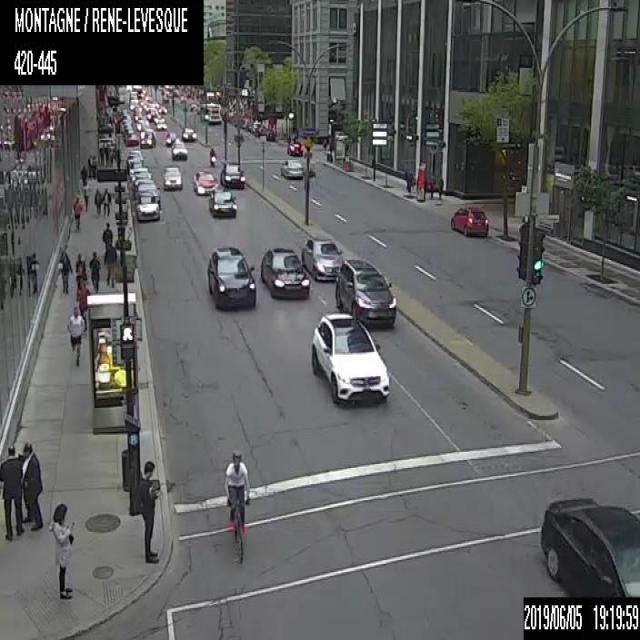bus: (198, 102, 221, 124)
construction: (416, 168, 424, 191)
cyclist: (224, 450, 250, 558)
pedestrian: (135, 458, 161, 562), (48, 503, 75, 597), (0, 440, 19, 540), (20, 440, 40, 530), (66, 306, 84, 365), (58, 240, 72, 294), (75, 277, 89, 330), (102, 240, 116, 286), (88, 251, 100, 292), (102, 222, 114, 262), (74, 252, 86, 292), (72, 194, 82, 231), (102, 185, 110, 215), (94, 188, 101, 214), (436, 175, 443, 197), (80, 163, 87, 184), (428, 174, 434, 198), (97, 146, 104, 166), (86, 153, 92, 176), (92, 154, 96, 178)
vehicle: (538, 496, 639, 596), (310, 310, 396, 402), (334, 258, 396, 326), (206, 244, 256, 305), (259, 244, 309, 297), (300, 236, 344, 281), (450, 204, 488, 236), (208, 188, 237, 216), (218, 159, 245, 187), (136, 191, 160, 221), (194, 170, 218, 195), (130, 167, 151, 190), (162, 164, 181, 189), (280, 159, 302, 177), (139, 129, 156, 148), (171, 141, 186, 160), (134, 178, 155, 190), (164, 130, 178, 147), (127, 159, 141, 176), (181, 126, 197, 140), (128, 149, 142, 165), (125, 154, 141, 168), (286, 142, 302, 154), (123, 132, 138, 144), (260, 127, 274, 139), (146, 107, 157, 121), (254, 124, 265, 137), (136, 118, 146, 130), (156, 117, 166, 129), (250, 121, 260, 133), (153, 114, 165, 123), (209, 147, 215, 164), (178, 93, 186, 103), (158, 105, 166, 114)
